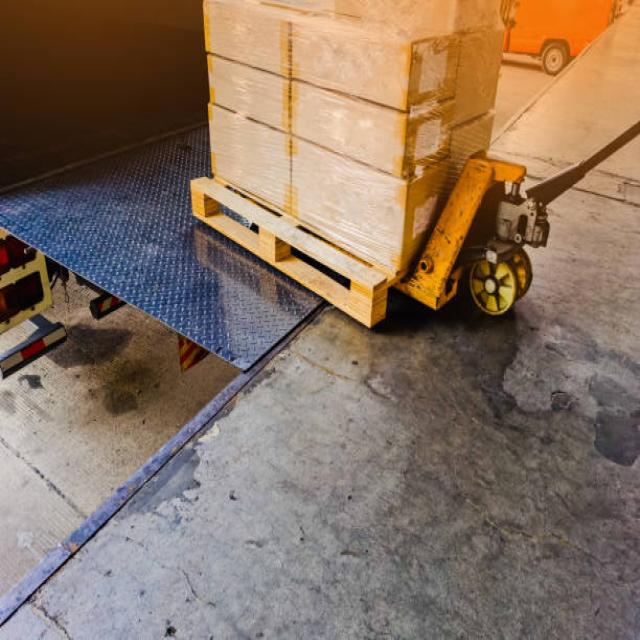Wooden-Pallets: (192, 178, 379, 336)
